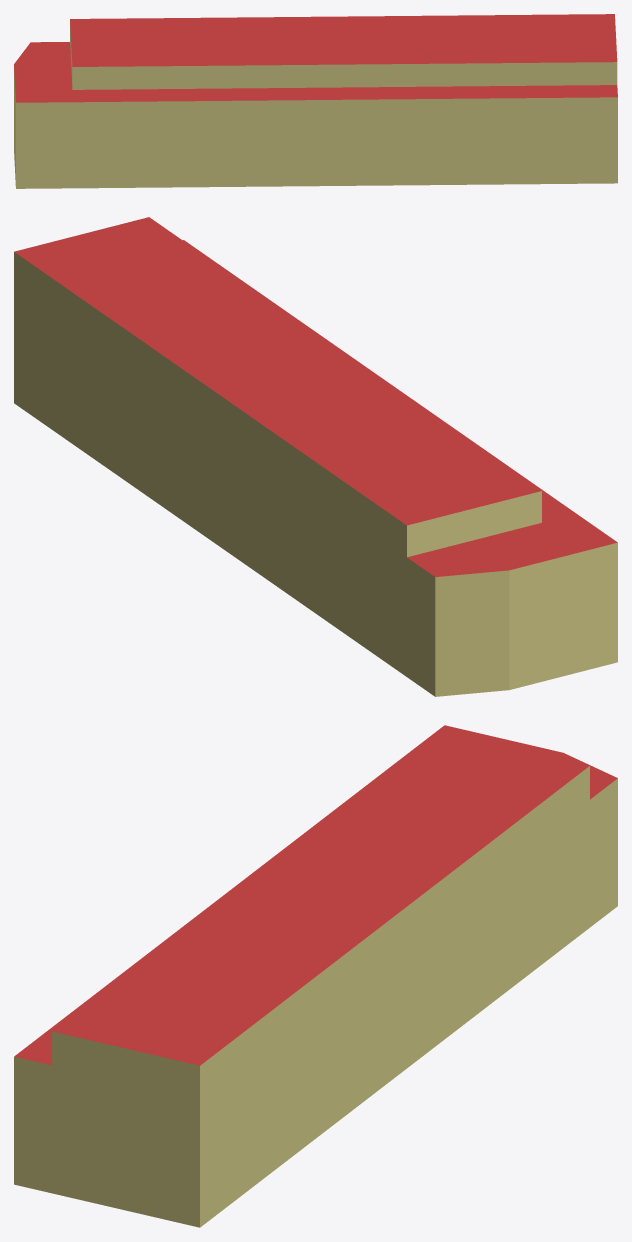
3 renders of one model, top to bottom at view 1: azimuth 30°, elevation 25°; view 2: azimuth 150°, elevation 25°; view 3: azimuth 270°, elevation 25°, orthographic. The views are drawn at different scales.
Visible parts, largest first — view 1: group_4, group_6, group_7, group_3; view 2: group_4, group_6, group_7, group_3; view 3: group_4, group_6, group_7, group_3.
Part boxes in pixels (left/top/right/bottom): group_4: left=14, top=68, right=617, bottom=188; group_6: left=70, top=14, right=617, bottom=66; group_7: left=70, top=22, right=617, bottom=89; group_3: left=14, top=42, right=617, bottom=102; group_4: left=14, top=284, right=617, bottom=696; group_6: left=14, top=217, right=541, bottom=525; group_7: left=14, top=252, right=541, bottom=557; group_3: left=183, top=240, right=617, bottom=576; group_4: left=14, top=778, right=617, bottom=1227; group_6: left=52, top=731, right=589, bottom=1065; group_7: left=52, top=766, right=589, bottom=1099; group_3: left=14, top=725, right=617, bottom=1065.
Size of the model in its own units: 70.56 by 48.08 by 14.23.
